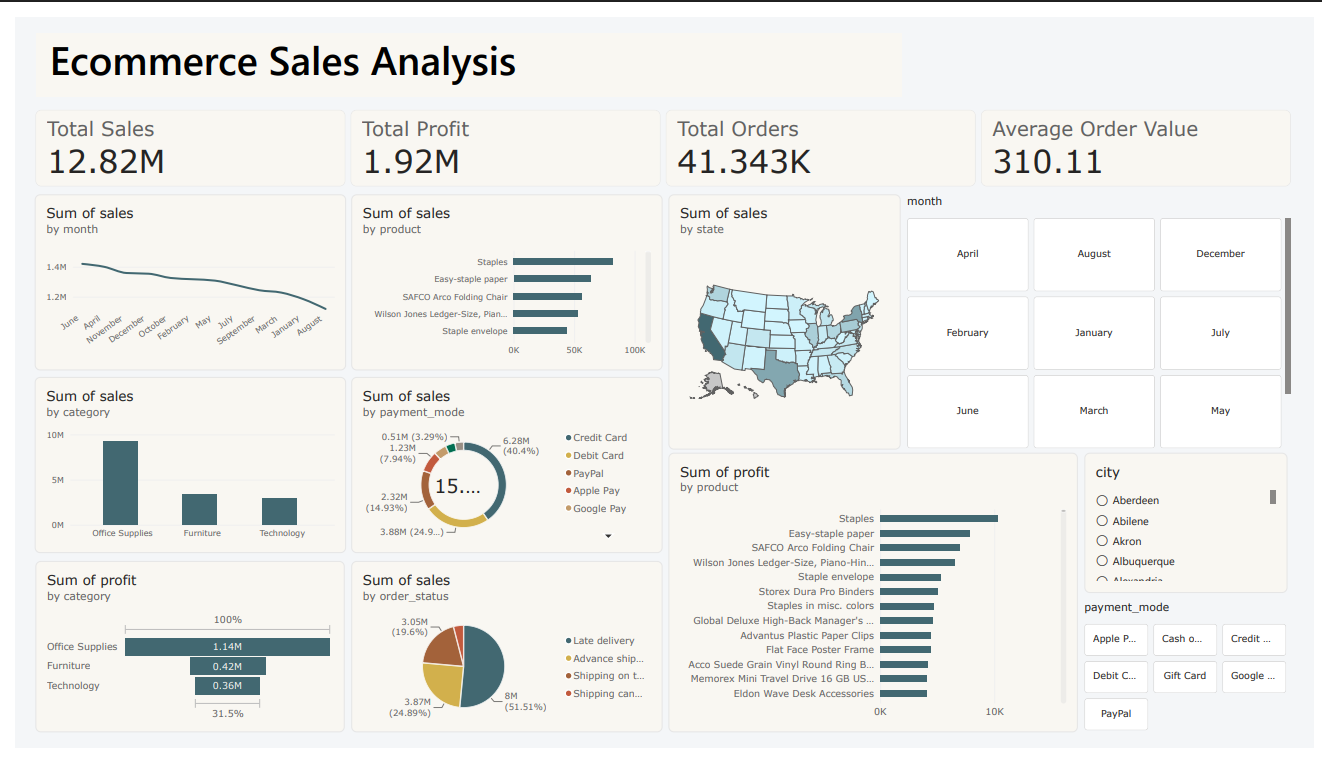

The dashboard page shown, as its layout file describes it:
{"tool":"powerbi","page":{"name":"Page 1","canvas":[1920,1080],"ordinal":0},"visuals":[{"type":"cardVisual","fields":{"Data":["Dax Measures Table.Total Sales","Dax Measures Table.Total Profit","Dax Measures Table.Total Orders","Dax Measures Table.Average Order Value"]},"box":[30,136.7,1856.7,113.3],"z":0},{"type":"textbox","box":[31.4,22.9,1280,94.3],"z":1000},{"type":"lineChart","fields":{"Category":["ecommerce orders.month"],"Y":["Sum(ecommerce orders.sales)"]},"box":[29.1,262.5,460,260],"z":2000},{"type":"columnChart","fields":{"Category":["ecommerce orders.category"],"Y":["Sum(ecommerce orders.sales)"]},"box":[29.1,532.5,460,260],"z":3000},{"type":"barChart","fields":{"Category":["ecommerce orders.product"],"Y":["Sum(ecommerce orders.sales)"]},"box":[496.6,262.5,460,260],"z":4000},{"type":"donutChart","fields":{"Y":["Sum(ecommerce orders.sales)"],"Category":["ecommerce orders.payment_mode"]},"box":[496.6,532.5,460,260],"z":5000},{"type":"shapeMap","fields":{"Value":["Sum(ecommerce orders.sales)"],"Category":["ecommerce orders.state"]},"box":[965.7,262.5,343.3,376.7],"z":6000},{"type":"pieChart","fields":{"Y":["Sum(ecommerce orders.sales)"],"Category":["ecommerce orders.order_status"]},"box":[496.8,804.1,460,253.3],"z":7000},{"type":"funnel","fields":{"Y":["Sum(ecommerce orders.profit)"],"Category":["ecommerce orders.category"]},"box":[30.1,804.1,456.7,253.3],"z":8000},{"type":"barChart","fields":{"Category":["ecommerce orders.product"],"Y":["Sum(ecommerce orders.profit)"]},"box":[965.9,644.1,605,412.5],"z":9000},{"type":"advancedSlicerVisual","fields":{"Values":["ecommerce orders.month"]},"box":[1319.1,262.5,566.7,376.7],"z":10000},{"type":"listSlicer","fields":{"Values":["ecommerce orders.city"]},"box":[1580.9,644.1,300,206.7],"z":11000},{"type":"advancedSlicerVisual","fields":{"Values":["ecommerce orders.payment_mode"]},"box":[1580.9,861.6,300,195],"z":12000}]}

Visuals, with their boxes in screenshot pixels (x1, y1, x2, y2), scaled from the page's 1920x1080 canvas onto the 1322x757 screenshot:
cardVisual - Dax Measures Table.Total Sales x Dax Measures Table.Total Profit: 21, 96, 1299, 175
textbox: 22, 16, 903, 82
lineChart - ecommerce orders.month x Sum(ecommerce orders.sales): 20, 184, 337, 366
columnChart - ecommerce orders.category x Sum(ecommerce orders.sales): 20, 373, 337, 555
barChart - ecommerce orders.product x Sum(ecommerce orders.sales): 342, 184, 659, 366
donutChart - Sum(ecommerce orders.sales) x ecommerce orders.payment_mode: 342, 373, 659, 555
shapeMap - Sum(ecommerce orders.sales) x ecommerce orders.state: 665, 184, 901, 448
pieChart - Sum(ecommerce orders.sales) x ecommerce orders.order_status: 342, 564, 659, 741
funnel - Sum(ecommerce orders.profit) x ecommerce orders.category: 21, 564, 335, 741
barChart - ecommerce orders.product x Sum(ecommerce orders.profit): 665, 451, 1082, 741
advancedSlicerVisual - ecommerce orders.month: 908, 184, 1298, 448
listSlicer - ecommerce orders.city: 1089, 451, 1295, 596
advancedSlicerVisual - ecommerce orders.payment_mode: 1089, 604, 1295, 741
